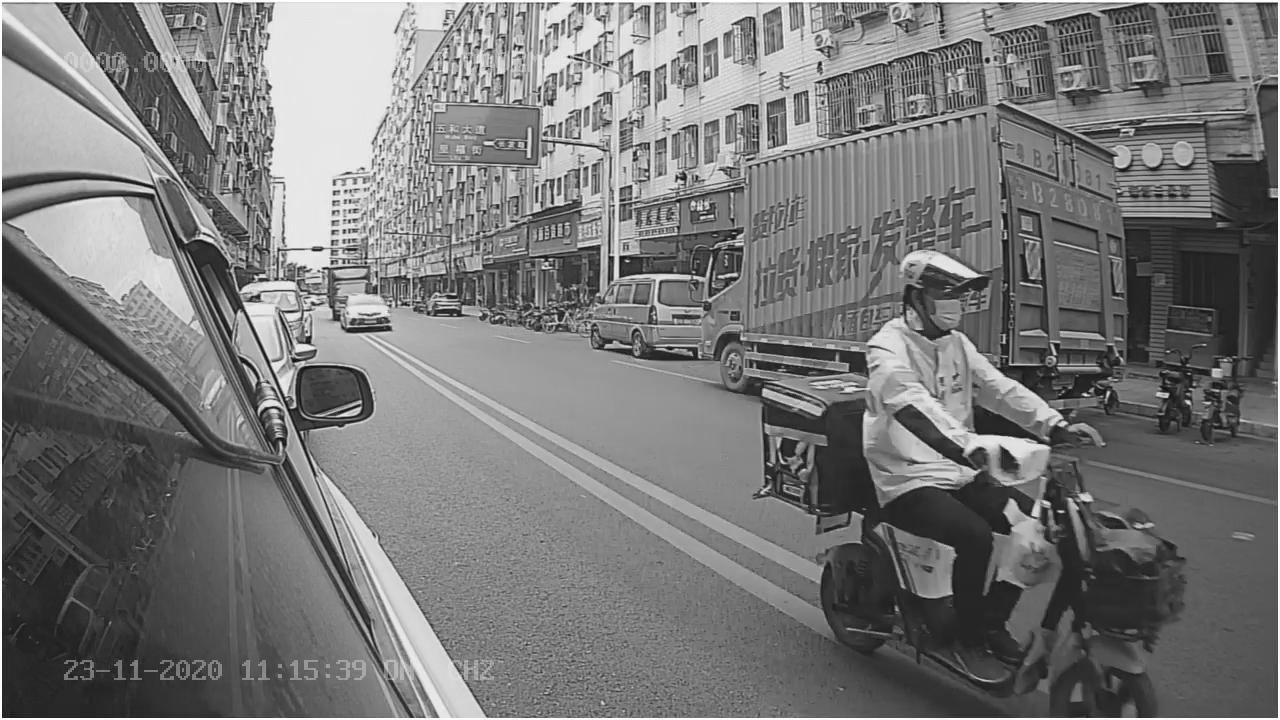person: (857, 246, 1112, 460)
